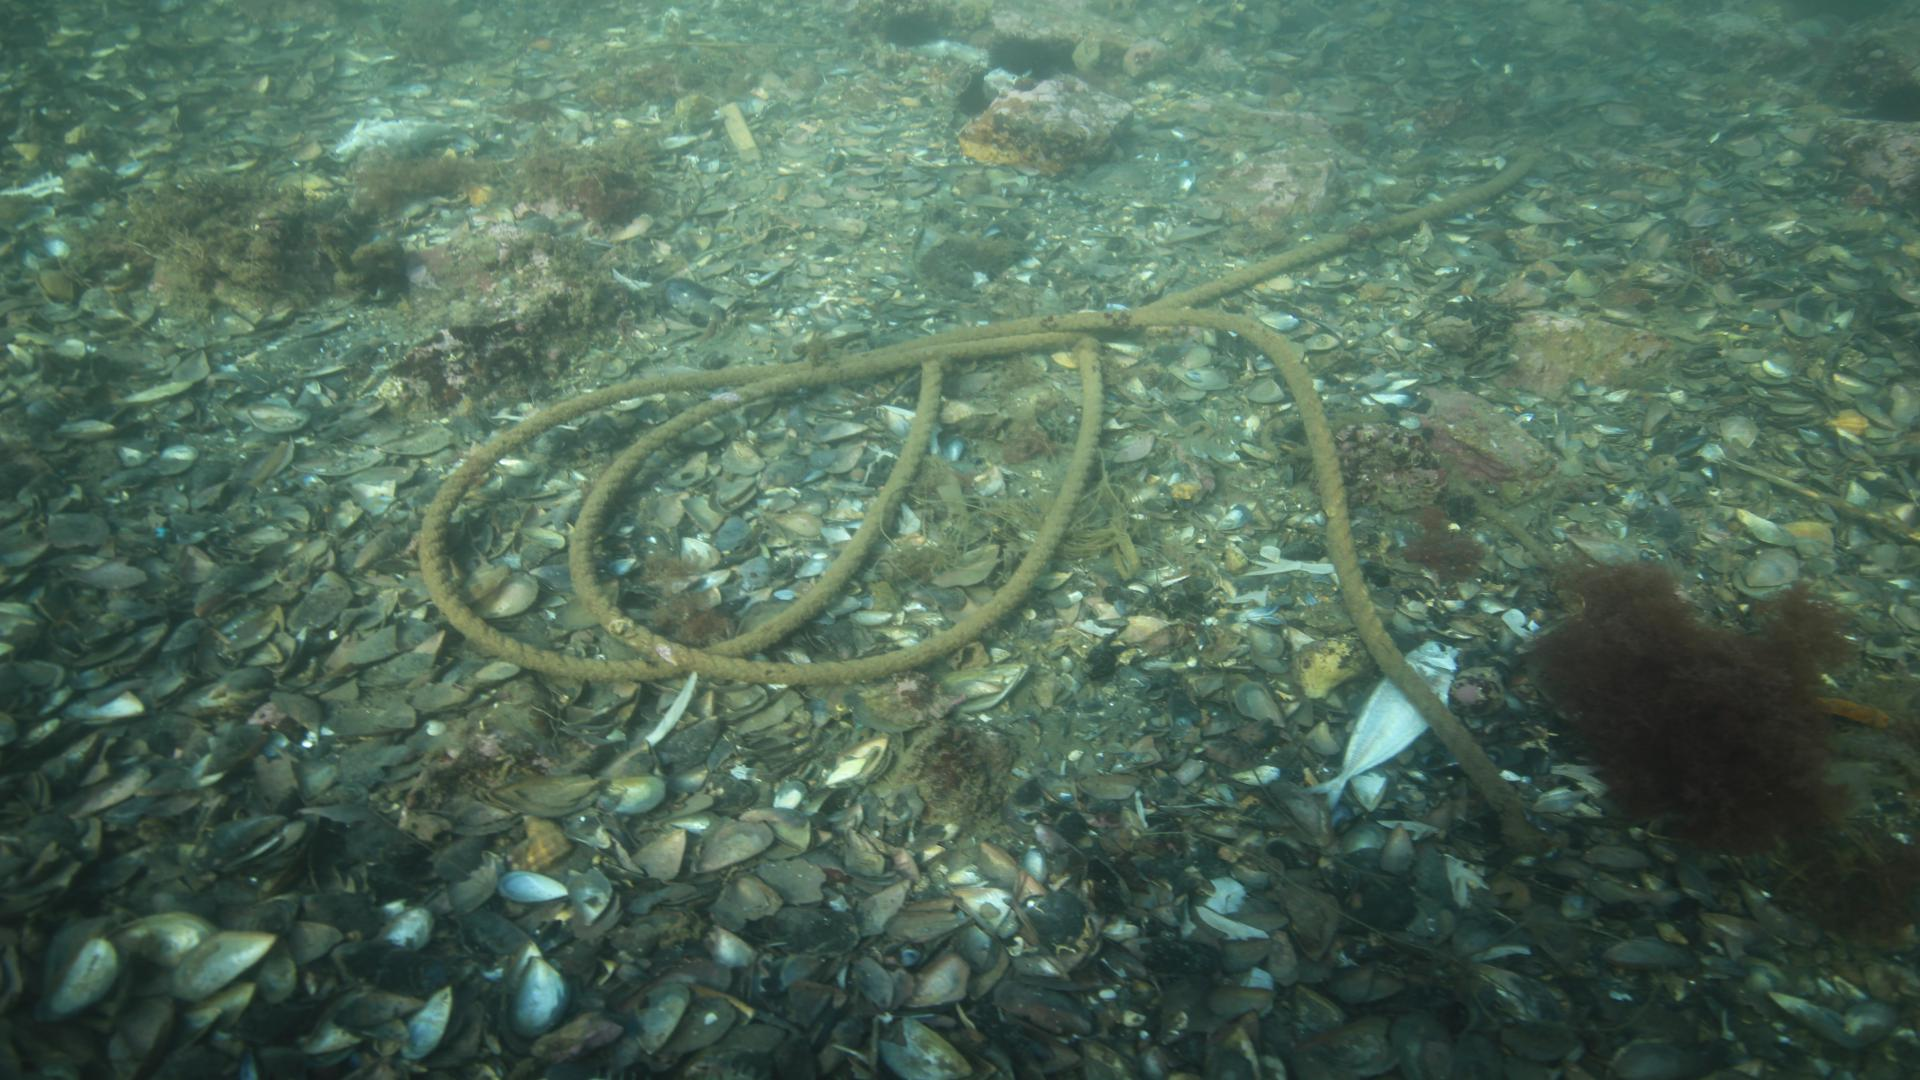bundle of ropes: (419, 175, 1509, 800)
